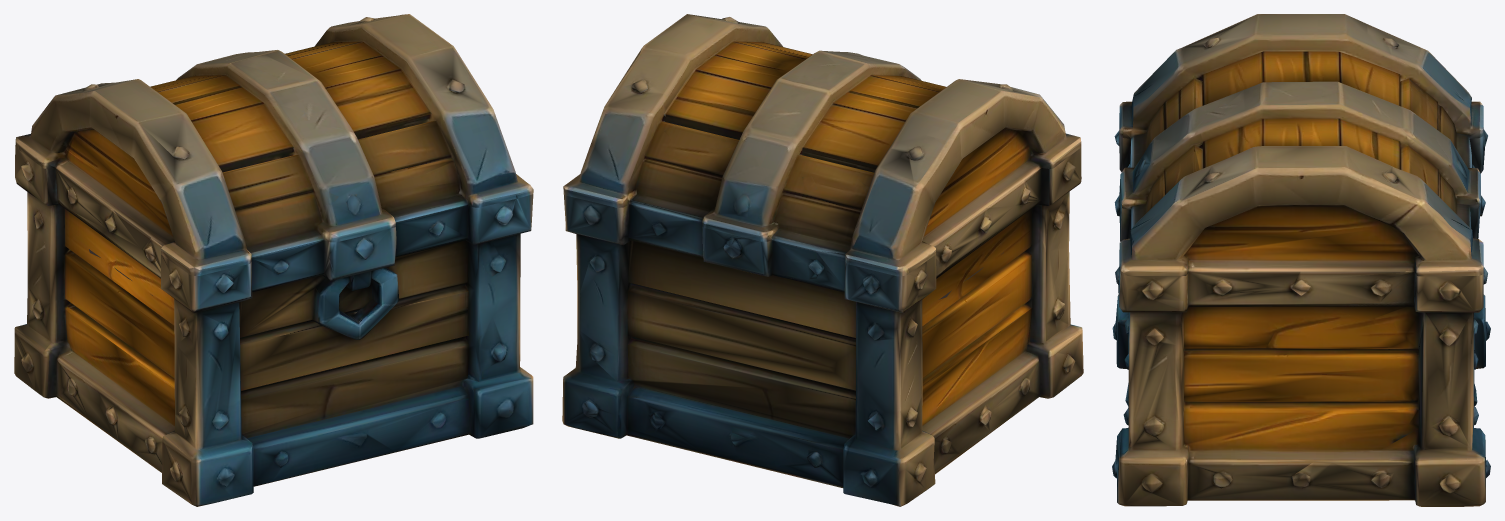
The model's file is chest_anim.glb.
The picture shows the model from 3 angles, left to right: view 1: azimuth 30°, elevation 25°; view 2: azimuth 150°, elevation 25°; view 3: azimuth 270°, elevation 25°; orthographic projection.
Parts seen in each view (by area): view 1: ChestBody, ChestLid; view 2: ChestBody, ChestLid; view 3: ChestBody, ChestLid.
Boxes of the visible parts, left/top/right/bottom form: ChestBody: left=14, top=147, right=533, bottom=506; ChestLid: left=15, top=14, right=533, bottom=275; ChestBody: left=562, top=148, right=1083, bottom=506; ChestLid: left=563, top=14, right=1081, bottom=276; ChestBody: left=1112, top=127, right=1490, bottom=506; ChestLid: left=1119, top=14, right=1483, bottom=276.
Size of the model in its own units: 0.7542 by 0.6869 by 0.7045.
Materials: 5 (1 with a texture image).
